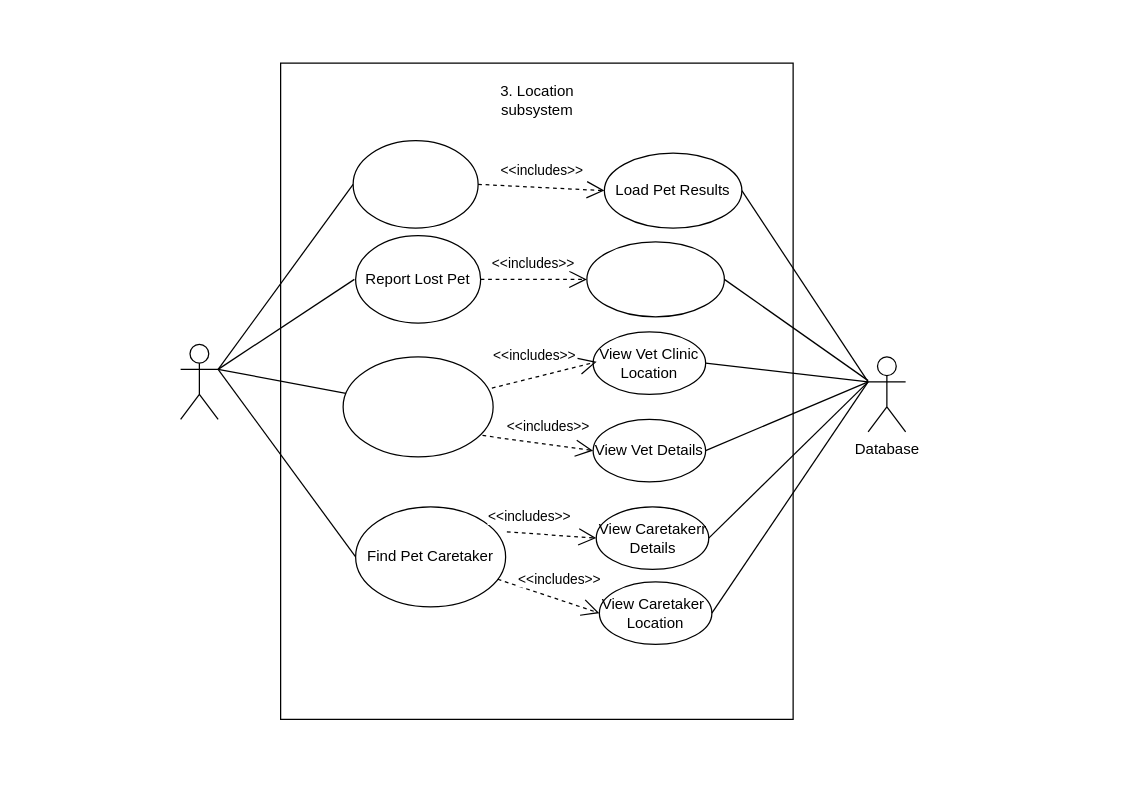
This 1121x801 diagram has some shape labels left out. Each missing label, with the centre of its shape:
"Find Veterinarian" belongs at [417,406].
"Record Pet Location" belongs at [655,279].
"Search Lost and Found Pets" belongs at [415,183].
"User" belongs at [198,381].
